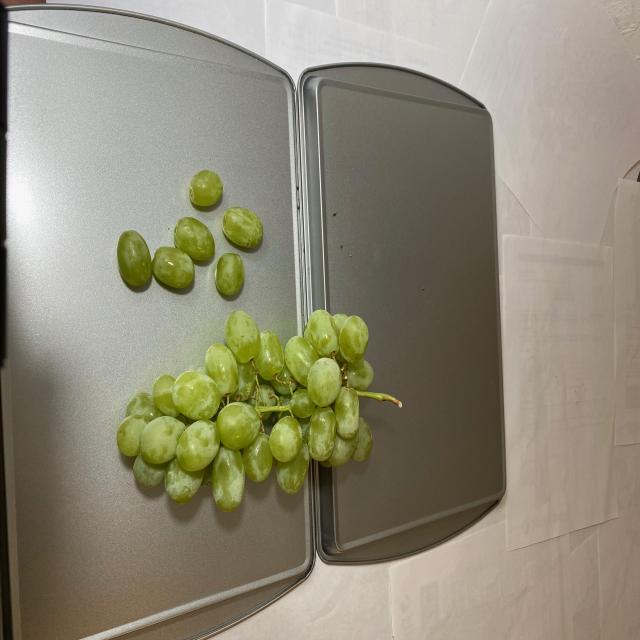grapes: (106, 169, 405, 515), (106, 307, 407, 516), (114, 168, 268, 304)
